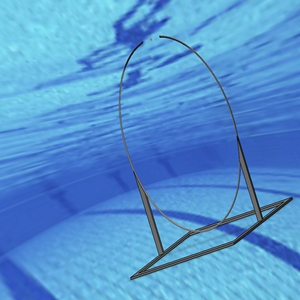circle: (117, 34, 294, 280)
